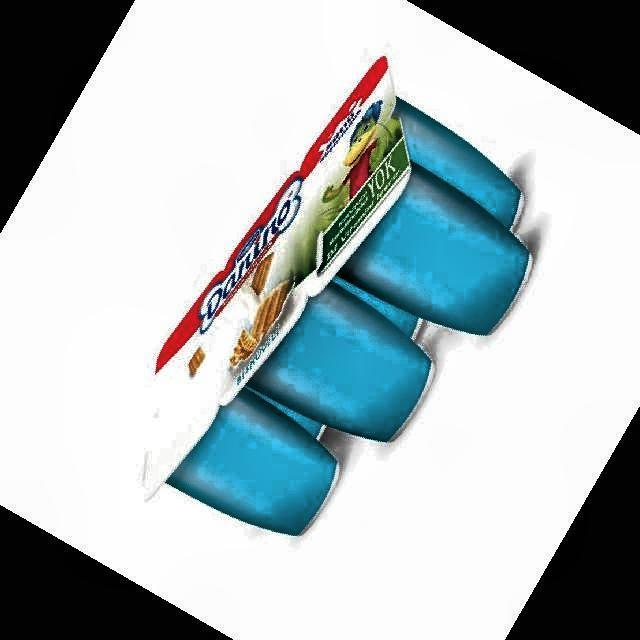plastic: (146, 59, 530, 534)
